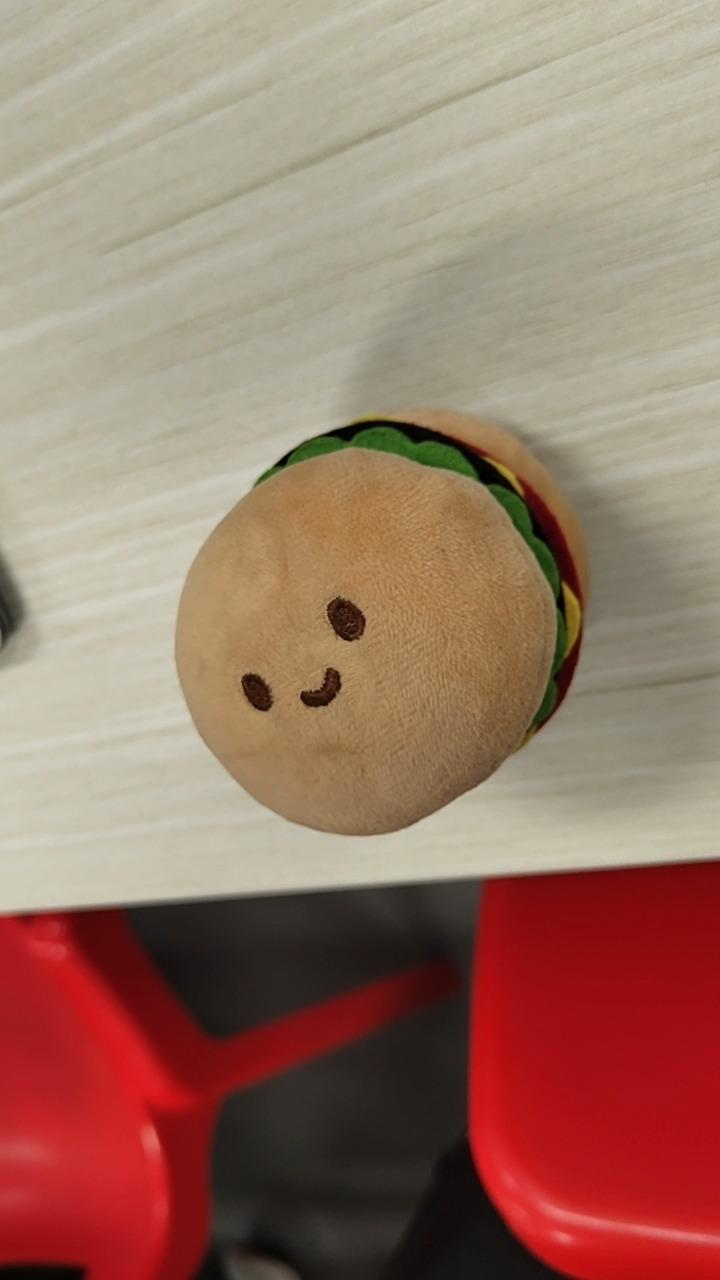hamburger: (172, 405, 590, 837)
